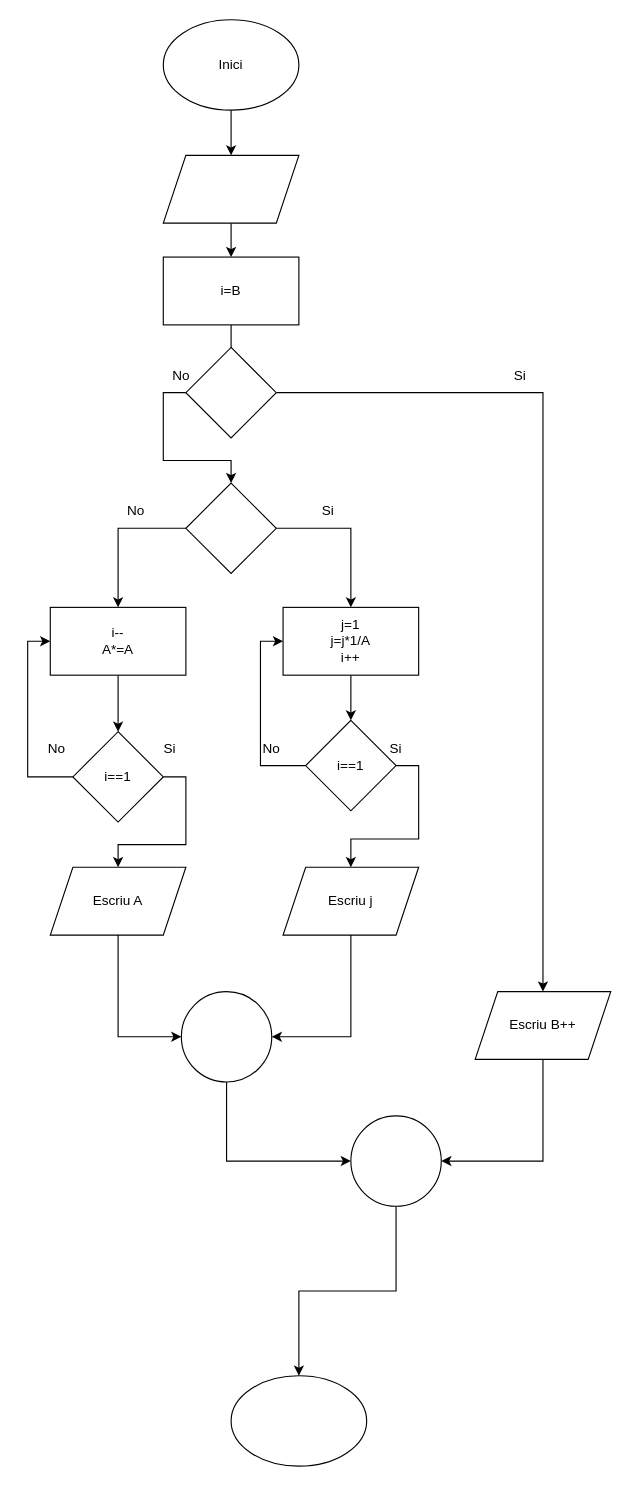
The diagram is 631 pixels wide and 1486 high, and some of its shapes have lost their labels. The centre of each missing label's shape, as x and y in pixels:
"B<0" goes at pixel 230 527.
"B==0" goes at pixel 230 392.
"Escriu A, B" goes at pixel 230 188.
"Fin" goes at pixel 298 1420.
